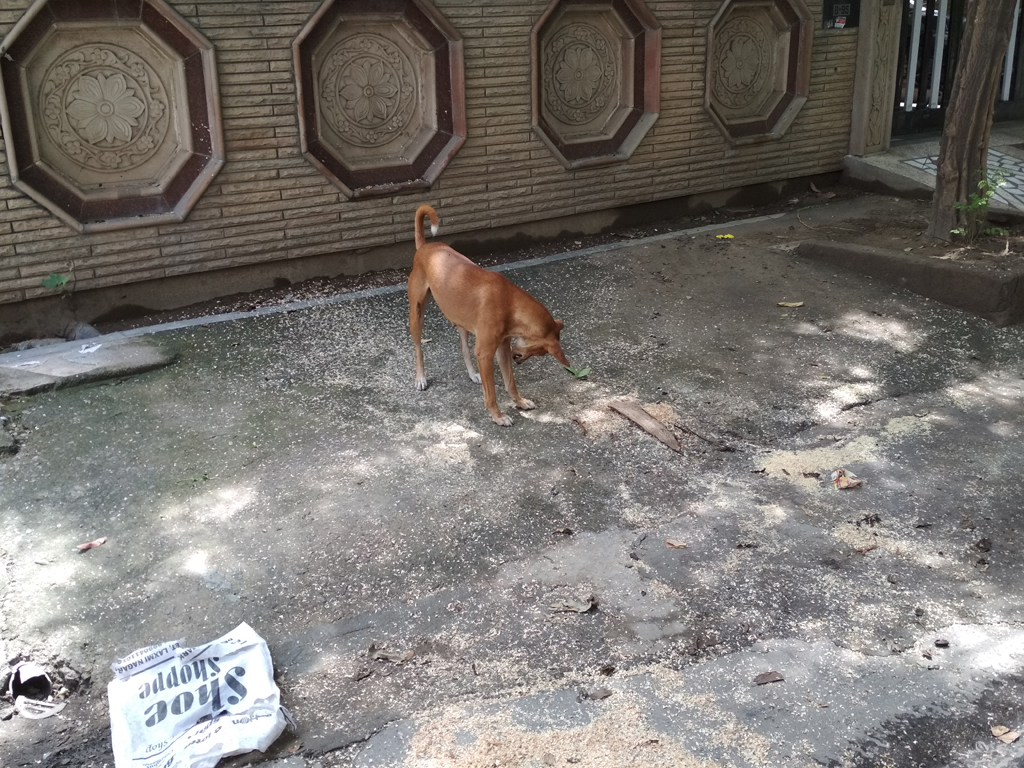dog: (406, 204, 572, 426)
